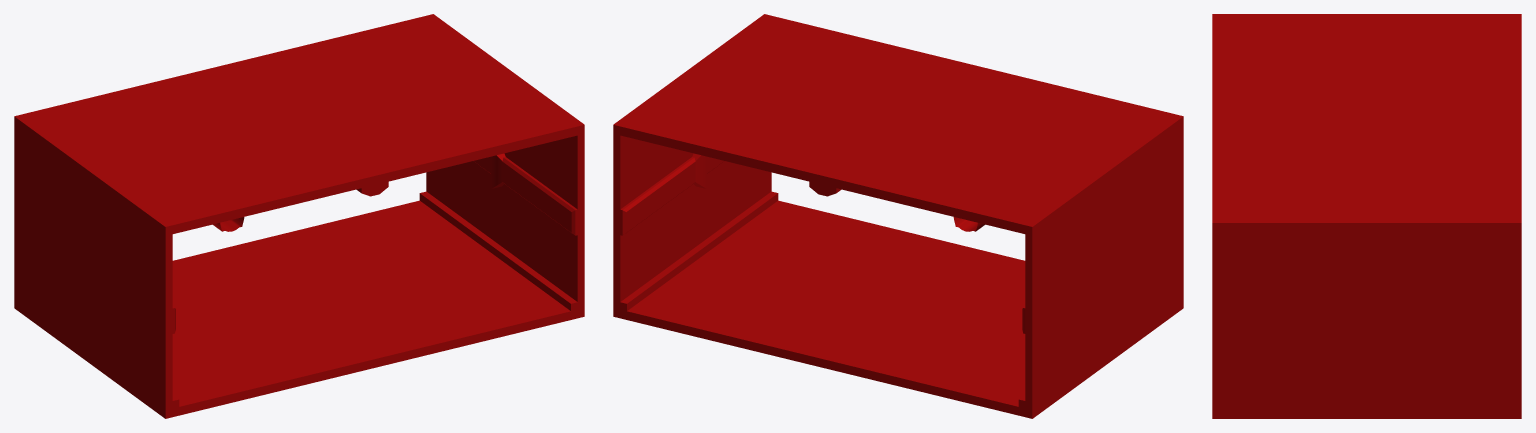
Rendered from pasillo comun.fbx.
The picture shows the model from 3 angles, left to right: view 1: azimuth 30°, elevation 25°; view 2: azimuth 150°, elevation 25°; view 3: azimuth 270°, elevation 25°; orthographic projection. The views are drawn at different scales.
Parts seen in each view (by area): view 1: PasilloComun; view 2: PasilloComun; view 3: PasilloComun.
Part boxes in pixels (x1,y1,x2,y2): PasilloComun: [14, 14, 584, 418]; PasilloComun: [613, 14, 1183, 418]; PasilloComun: [1212, 14, 1521, 418].
Bounding box in the file's own units: 1600 × 700 × 1000.
